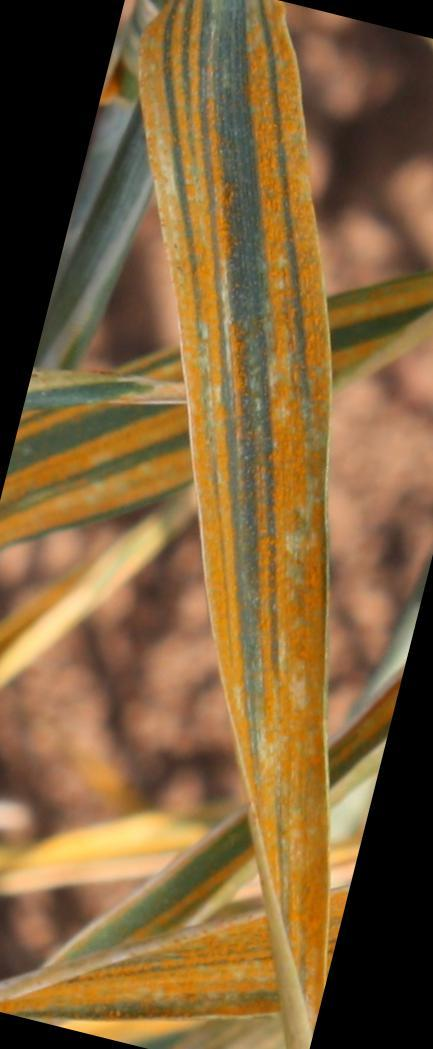Wheat: (146, 38, 287, 184), (188, 200, 307, 370), (86, 923, 320, 1007), (194, 394, 316, 532), (210, 560, 324, 673), (28, 418, 190, 491), (250, 684, 320, 846)
